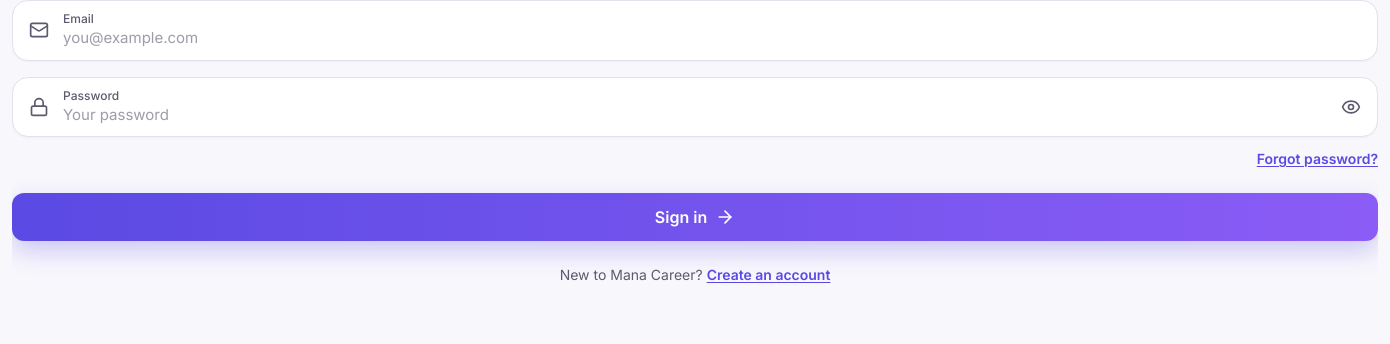
LoginForm › points the field at its error message
Click the button "Sign in". click: (695, 217)
box: [12,193,1378,241]
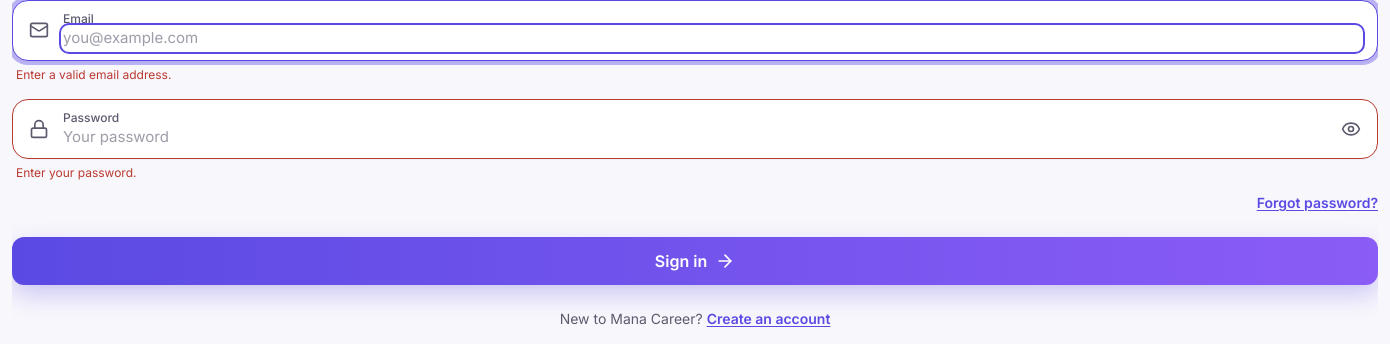
Expected: the text "Enter a valid email address." is shown, [16,66,171,82]
